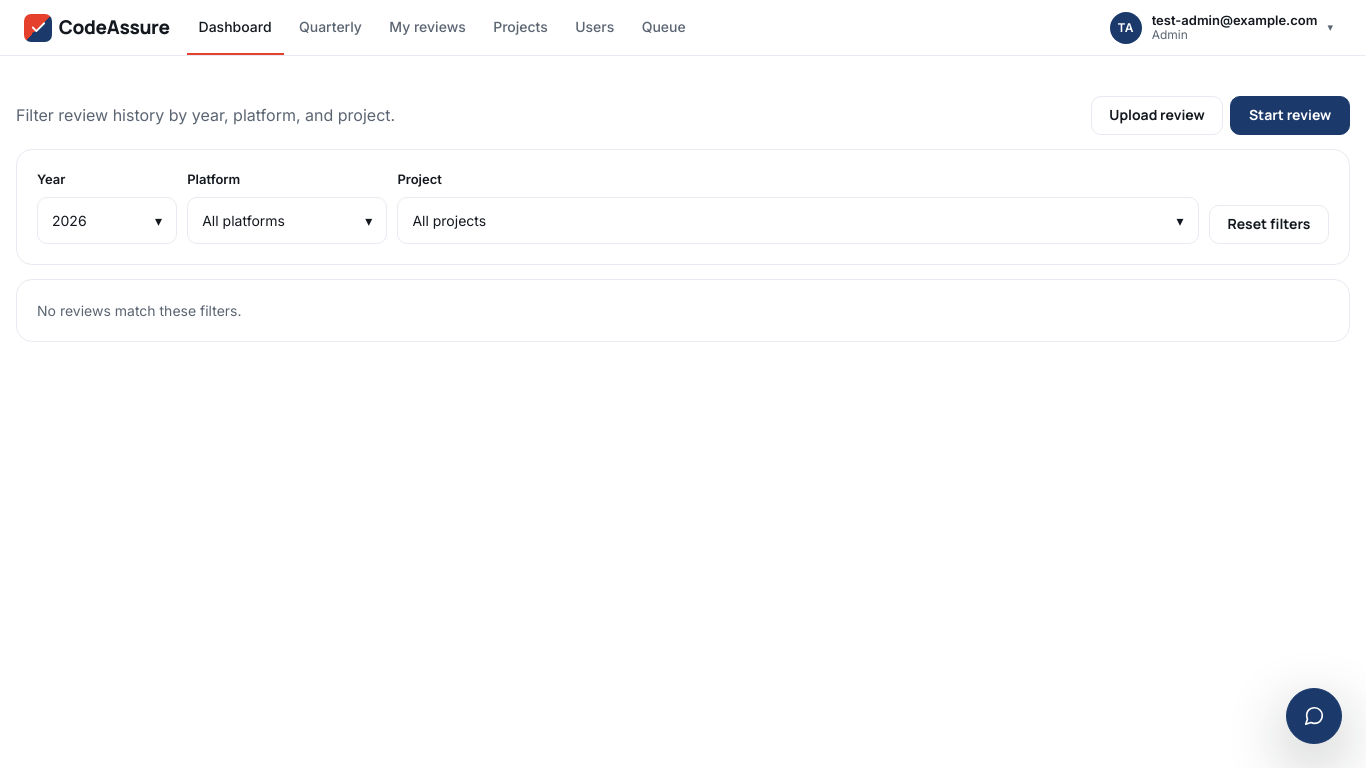
Test: offers Settings from the account menu
The width and height of the screenshot is (1366, 768).
Click the button with aria-label "account menu" at (1223, 28), box [1105,6,1342,48]
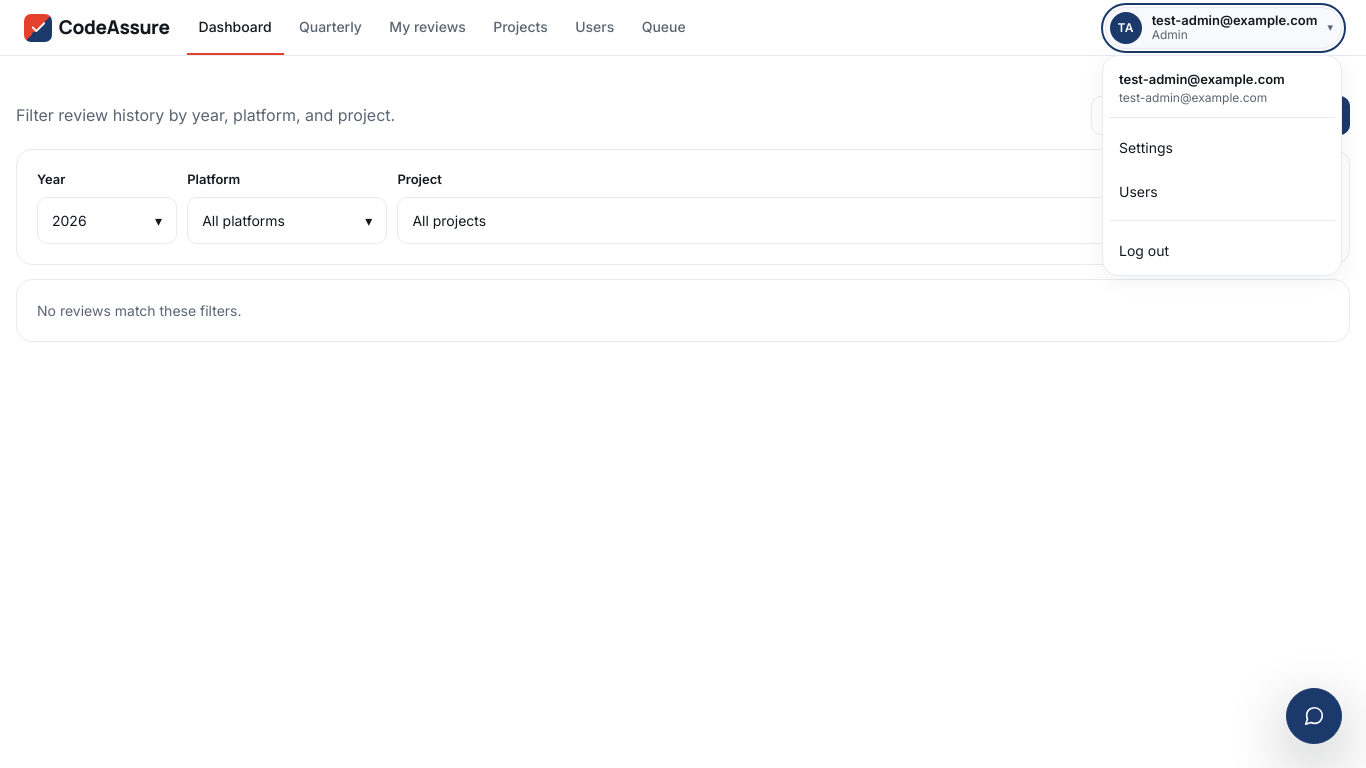
Expected: the menu item "Settings" is shown, [1109,129,1335,166]
